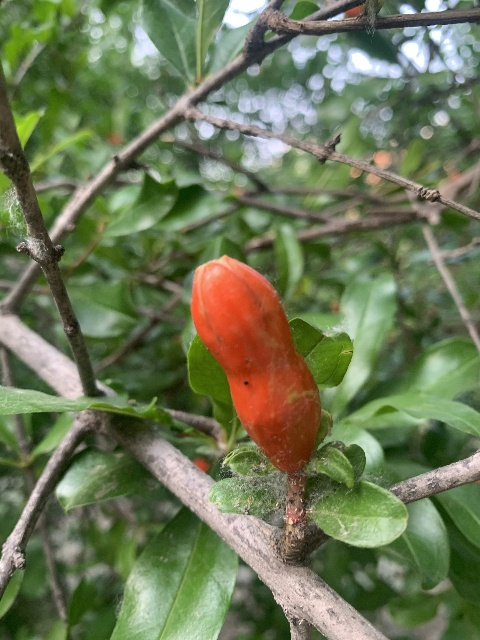bud: (190, 255, 321, 472)
